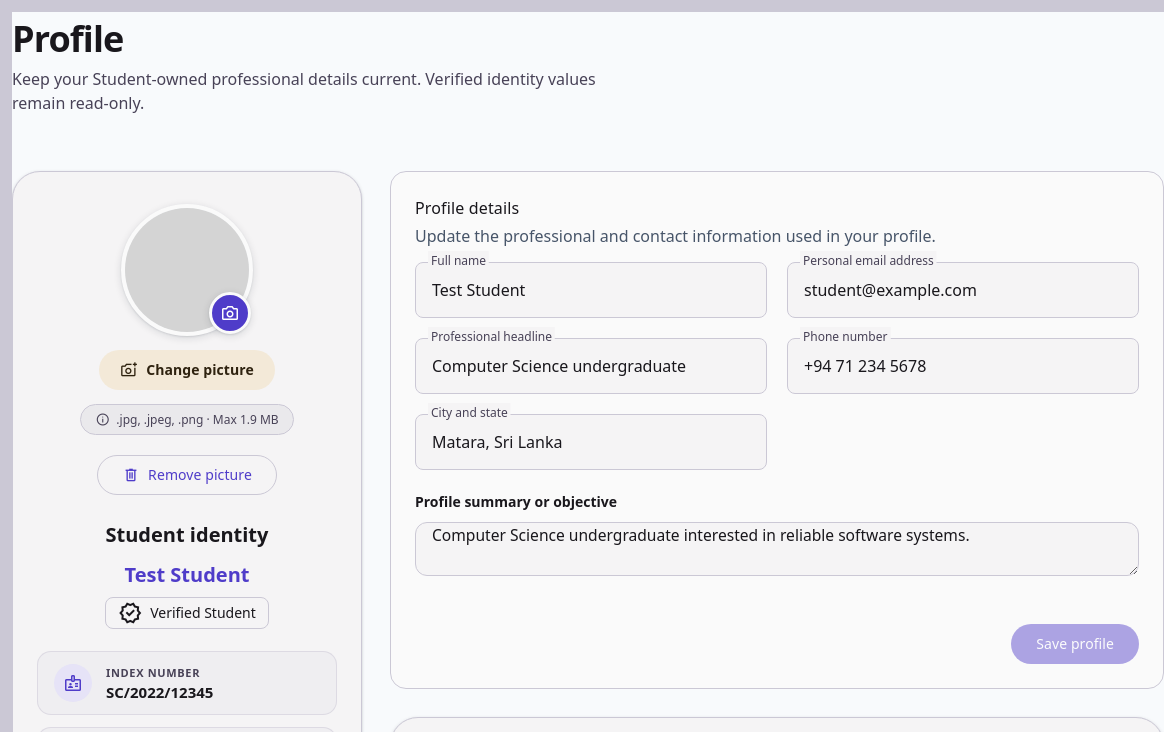
Test case: StudentProfilePage › submits only core editable values and reports server-confirmed success
Clear the field labelled "Full name" at (591, 290), box [432,263,750,317]
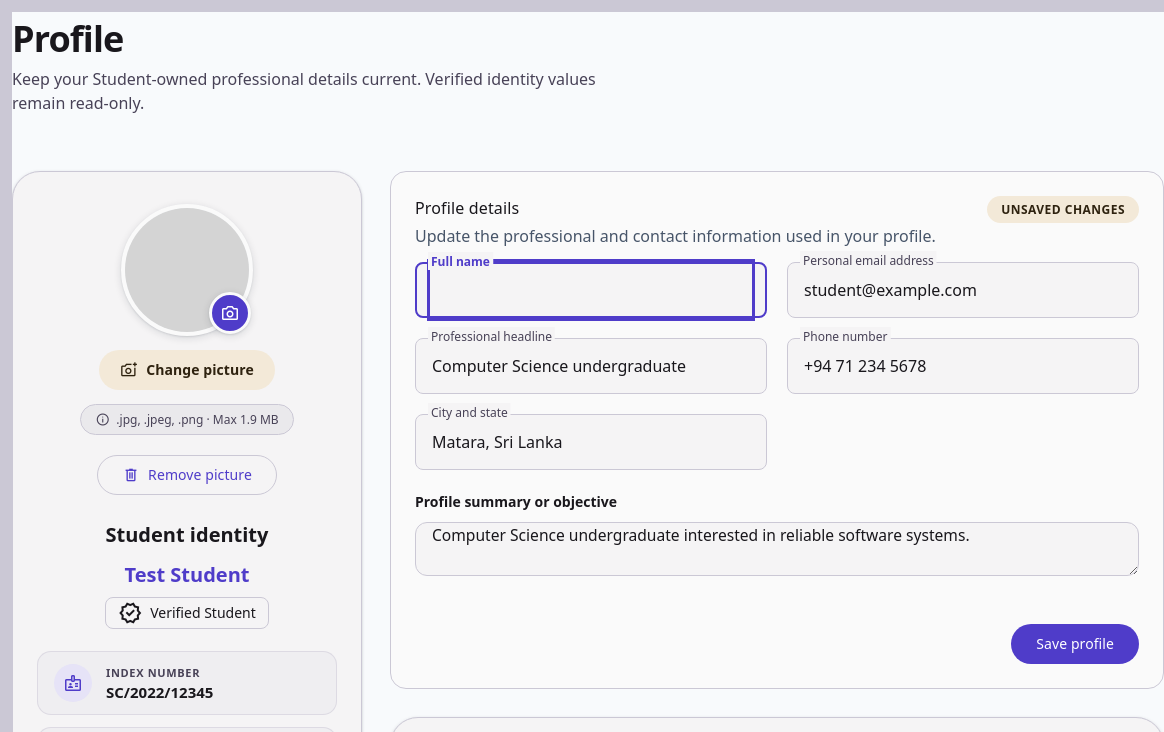
Type "Committed Student" into the field labelled "Full name" at (591, 290), box [432,264,750,316]
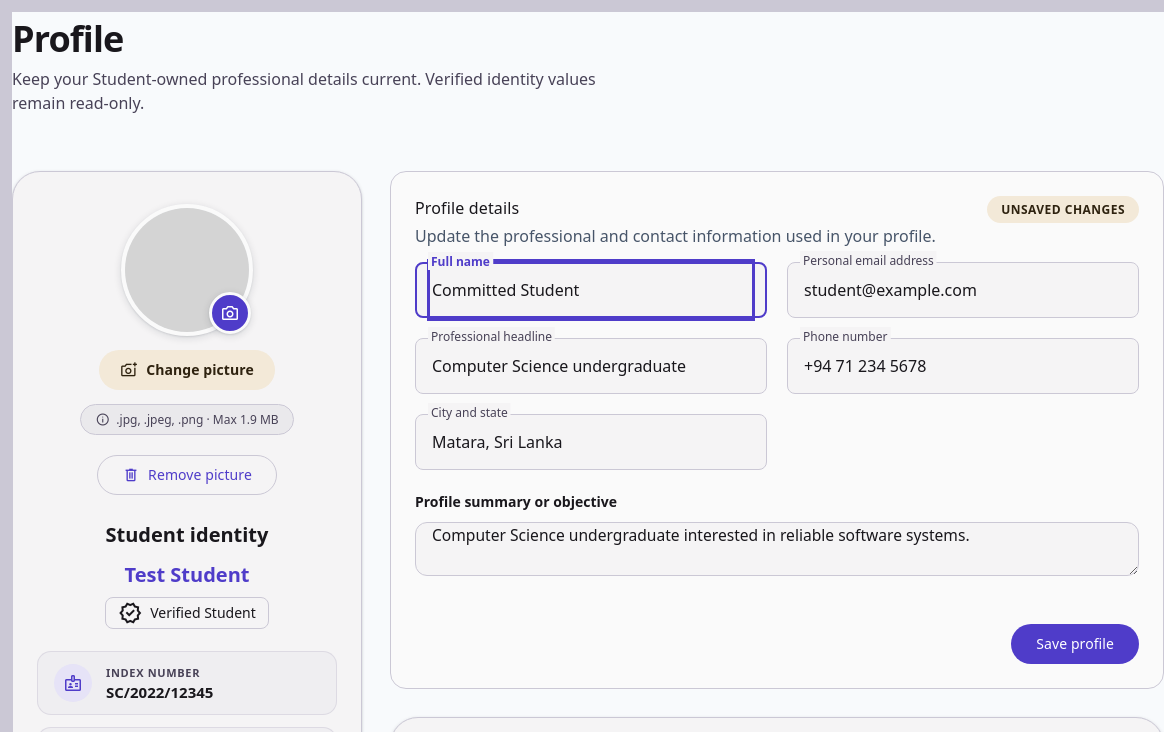
Click the button "Save profile" at (1075, 644), box [1011,624,1139,664]
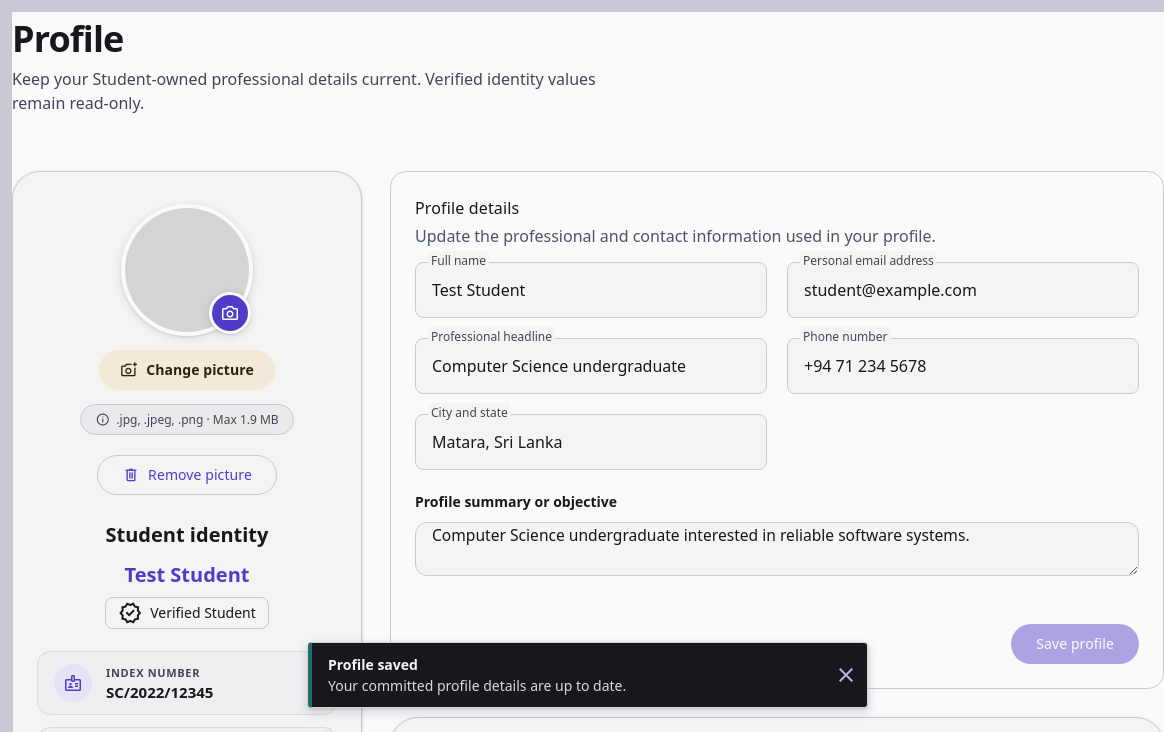
expect the text "Profile saved" is shown: met, box [328,655,418,674]
